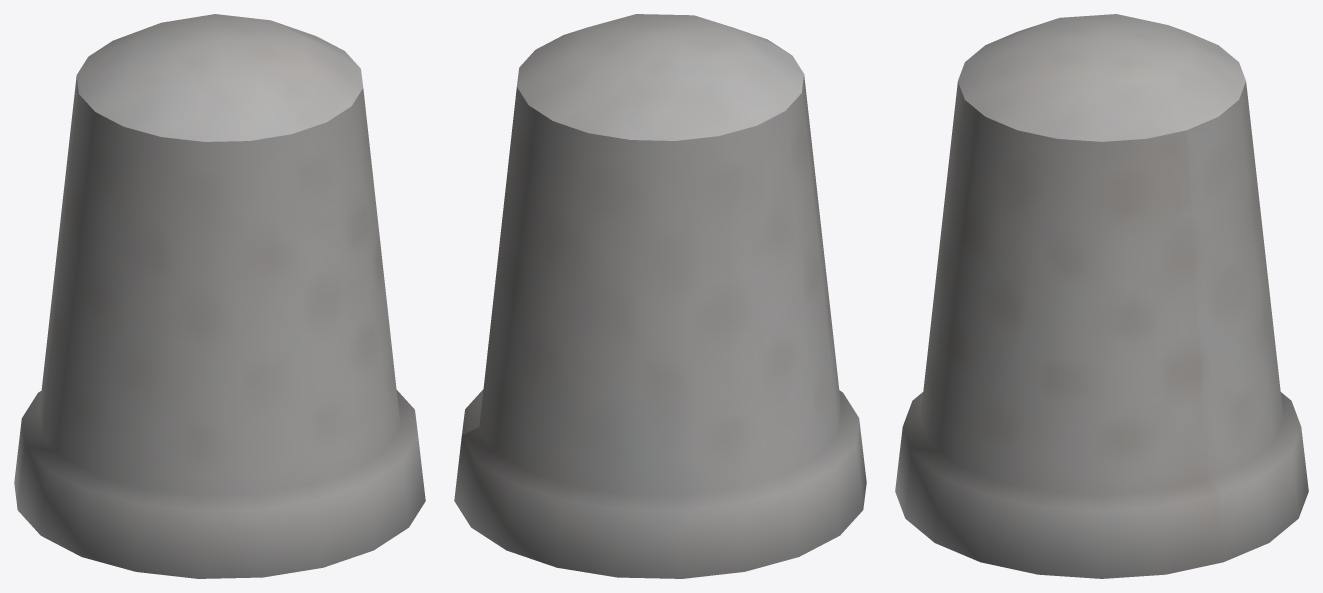
File: SM_Farm_Thumble_01.fbx
The picture shows the model from 3 angles, left to right: view 1: azimuth 30°, elevation 25°; view 2: azimuth 150°, elevation 25°; view 3: azimuth 270°, elevation 25°; orthographic projection.
Visible parts, largest first — view 1: SM_Farm_Thumble_01_LOD0; view 2: SM_Farm_Thumble_01_LOD0; view 3: SM_Farm_Thumble_01_LOD0.
Boxes of the visible parts, box(x1,y1,x2,y2) form: SM_Farm_Thumble_01_LOD0: box(14, 14, 425, 578); SM_Farm_Thumble_01_LOD0: box(454, 14, 866, 578); SM_Farm_Thumble_01_LOD0: box(895, 14, 1308, 578).
Bounding box in the file's own units: 7.29 × 8.79 × 7.29.
